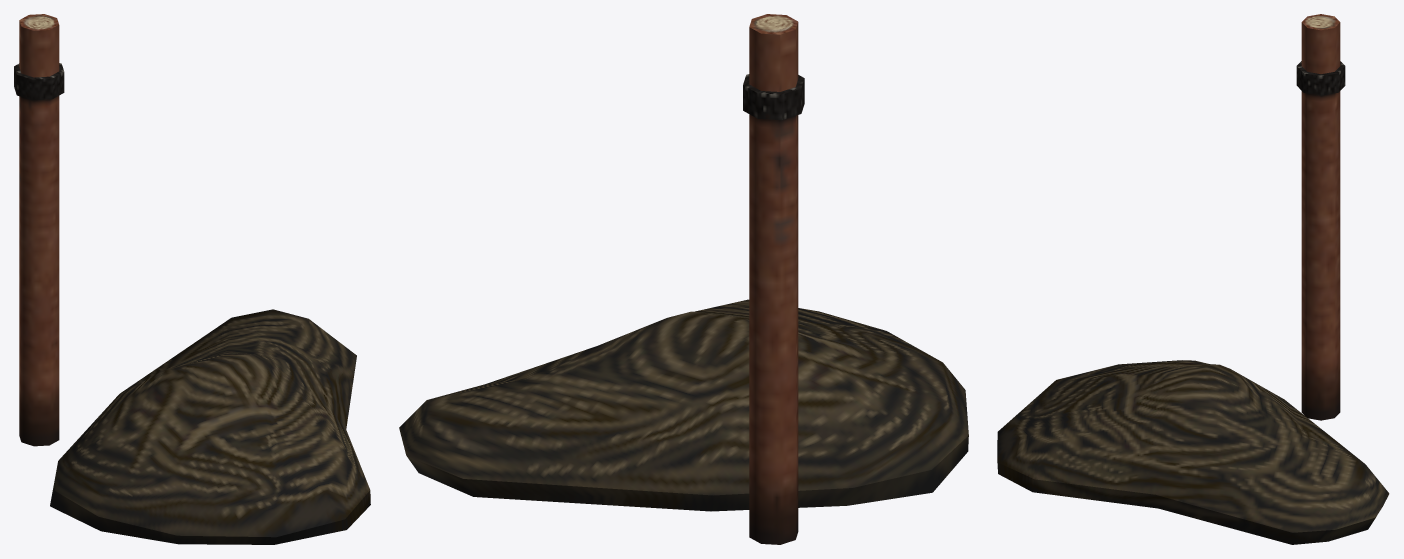
Rendered from Rope_stake.fbx.
3 views of the same model, side by side, from view 1: azimuth 30°, elevation 25°; view 2: azimuth 150°, elevation 25°; view 3: azimuth 270°, elevation 25° (orthographic). The views are drawn at different scales.
Visible parts, largest first — view 1: pCube4; view 2: pCube4; view 3: pCube4.
Part boxes in pixels (x1=…): pCube4: x1=14, y1=14, x2=370, y2=544; pCube4: x1=399, y1=14, x2=968, y2=544; pCube4: x1=997, y1=14, x2=1389, y2=544.
Size of the model in its own units: 0.7214 by 0.7968 by 0.7201.
